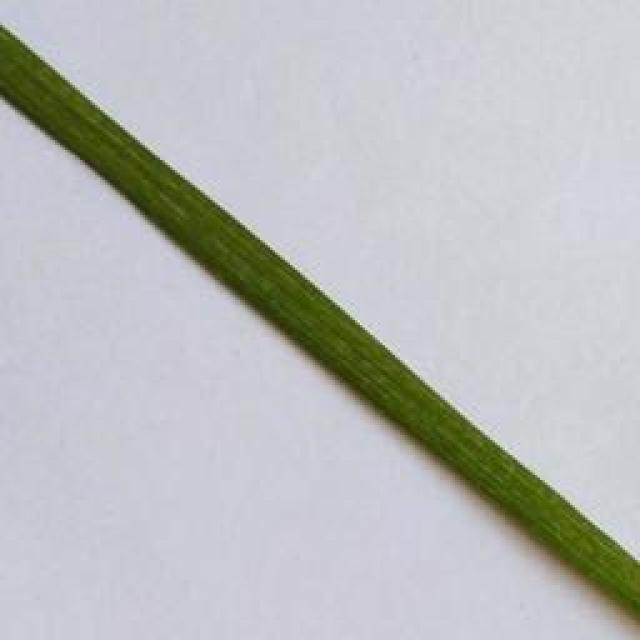Healthy-Plant: (3, 23, 640, 619)
